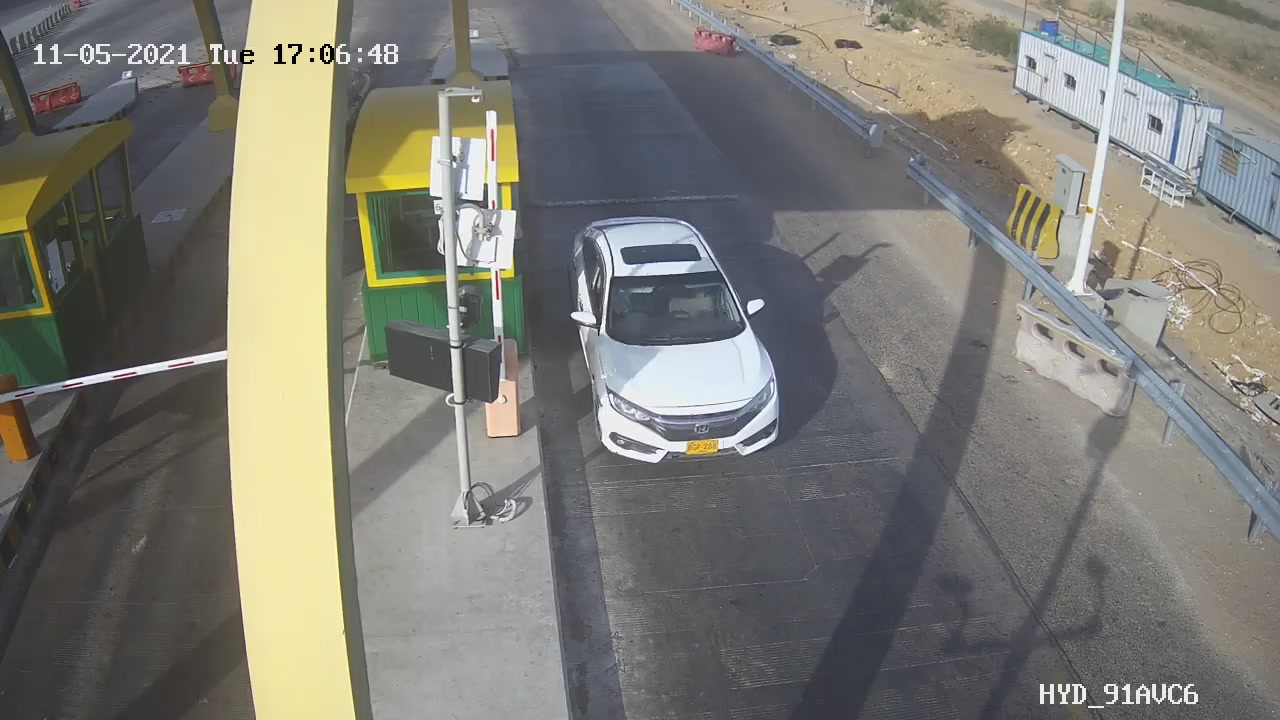F1: (539, 199, 812, 487)
